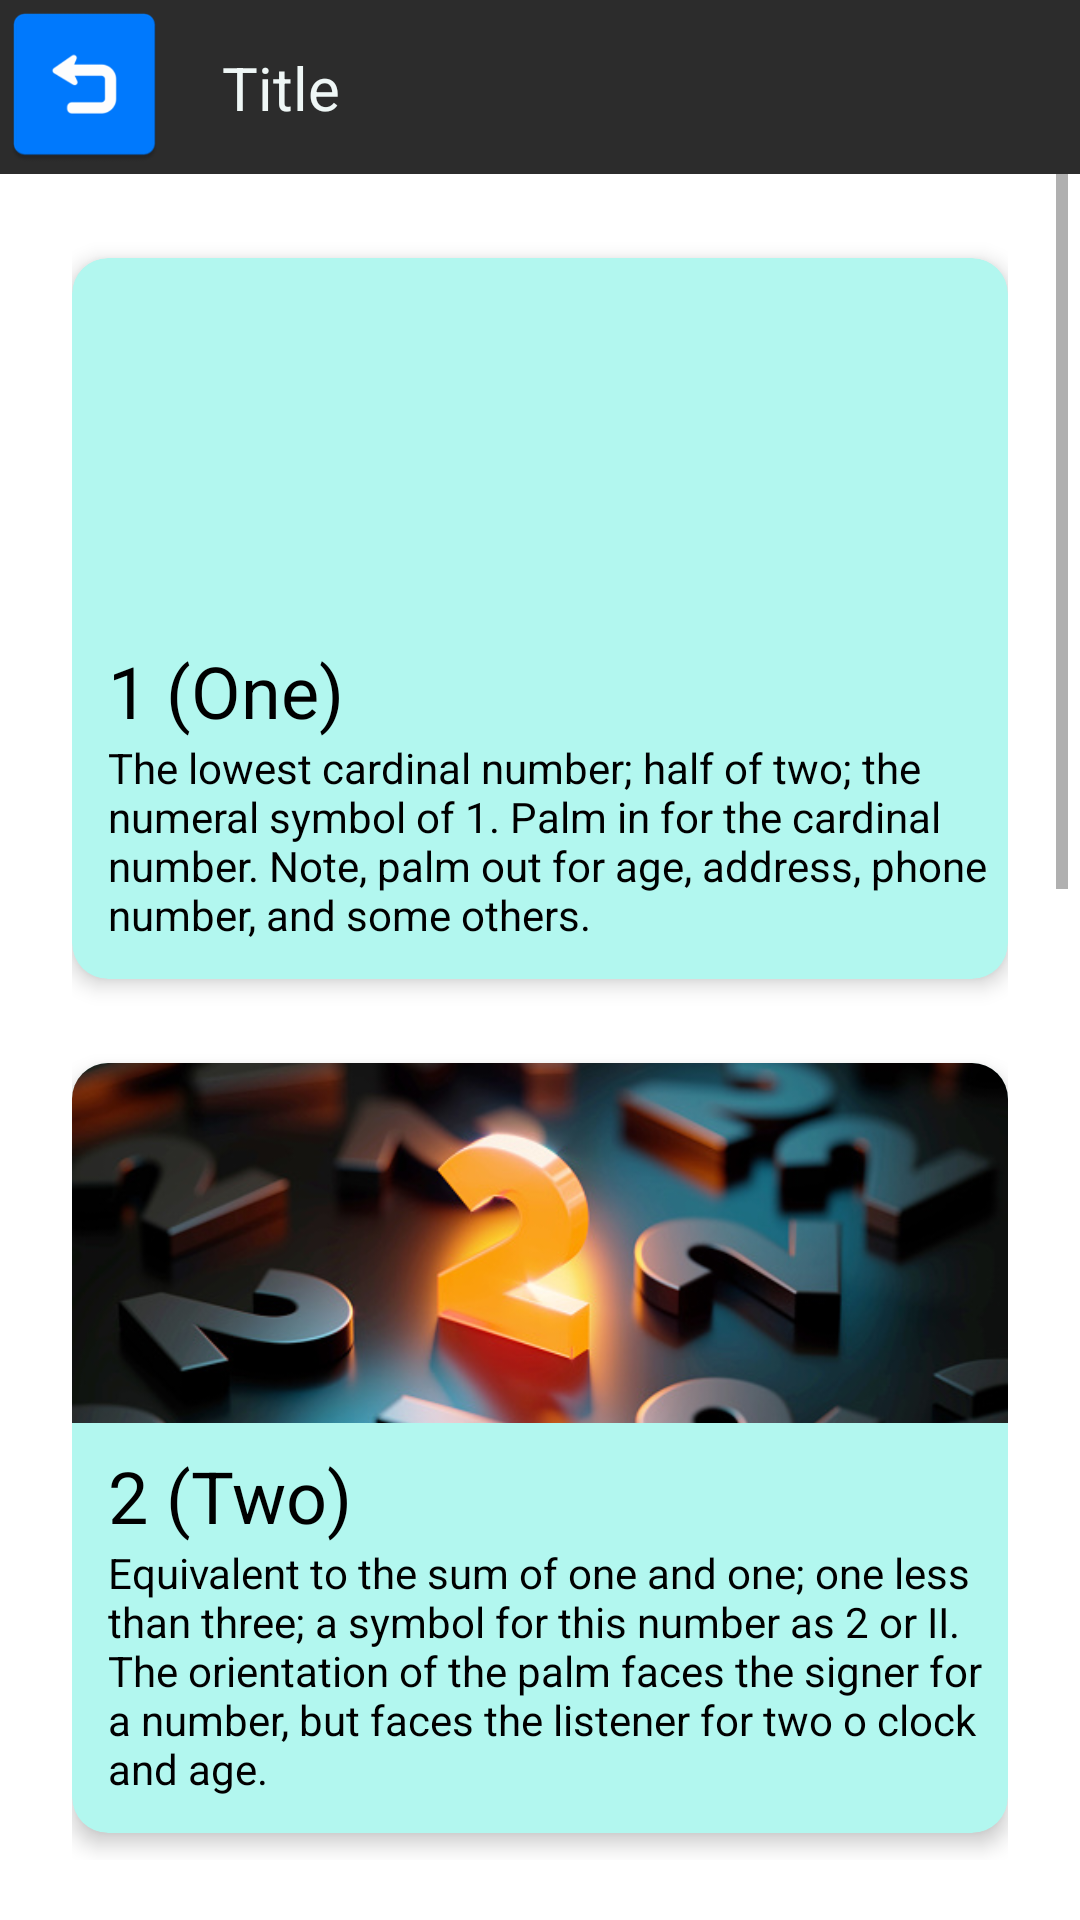

Screen size 1080w x 1920h. Icon name, then its center in pixels as (x,y):
back: (84,84)
